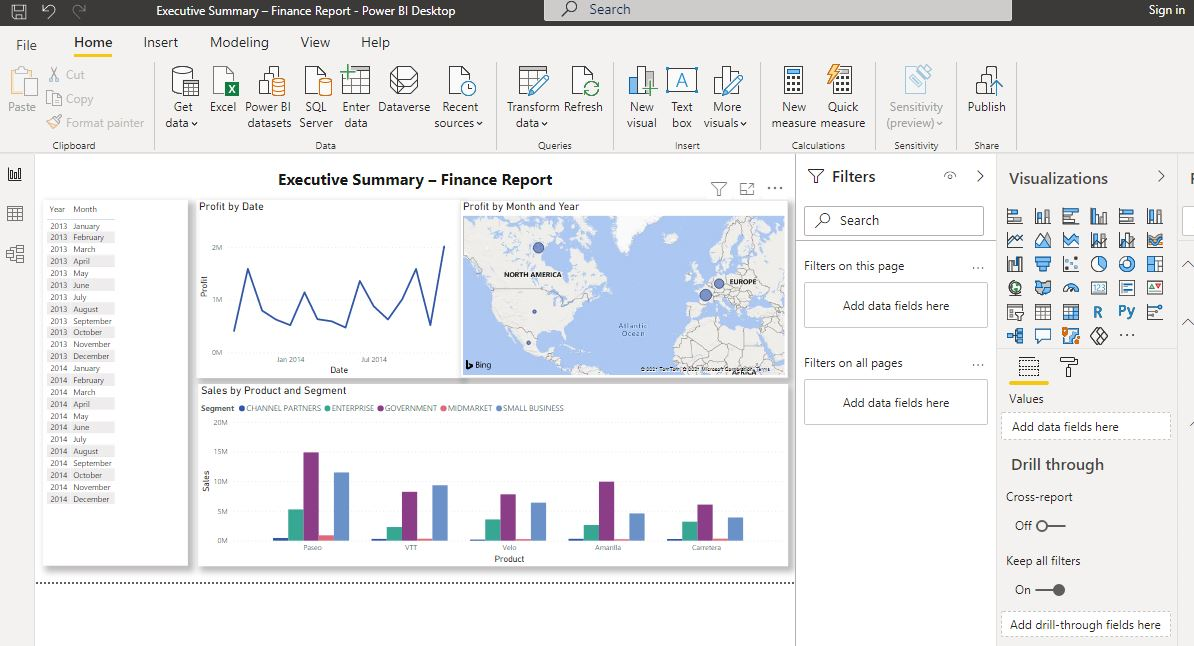

The page's visual inventory and layout, read from the dashboard file:
{"tool":"powerbi","page":{"name":"Page 1","canvas":[1280,720],"ordinal":0},"visuals":[{"type":"textbox","box":[394.1,18.5,491.8,58.9],"z":0},{"type":"lineChart","fields":{"Category":["financials.Date"],"Y":["Sum(financials.Profit)"]},"box":[271.2,77.5,444.6,299.8],"z":1000},{"type":"map","title":"Profit by Month and Year","fields":{"Category":["financials.Country"],"Size":["Sum(financials.Profit)"]},"box":[715.8,77.5,552.4,299.8],"z":2000},{"type":"clusteredColumnChart","fields":{"Y":["Sum(financials. Sales)"],"Category":["financials.Product"],"Series":["financials.Segment"]},"box":[274.5,387.4,993.7,306.5],"z":3000},{"type":"tableEx","fields":{"Values":["financials.Date.Variation.Date Hierarchy.Year","financials.Date.Variation.Date Hierarchy.Month"]},"box":[13.5,77.5,244.2,616.4],"z":5000}]}

Visuals, with their boxes on the page's 1280x720 design canvas (x1, y1, x2, y2). These are canvas units, not pixel positions in the 1194x646 screenshot, which may show the page scaled, cropped or inside an application window:
textbox: x1=394 y1=18 x2=886 y2=77
lineChart - financials.Date x Sum(financials.Profit): x1=271 y1=78 x2=716 y2=377
"Profit by Month and Year" map: x1=716 y1=78 x2=1268 y2=377
clusteredColumnChart - Sum(financials. Sales) x financials.Product: x1=274 y1=387 x2=1268 y2=694
tableEx - financials.Date.Variation.Date Hierarchy.Year x financials.Date.Variation.Date Hierarchy.Month: x1=14 y1=78 x2=258 y2=694
